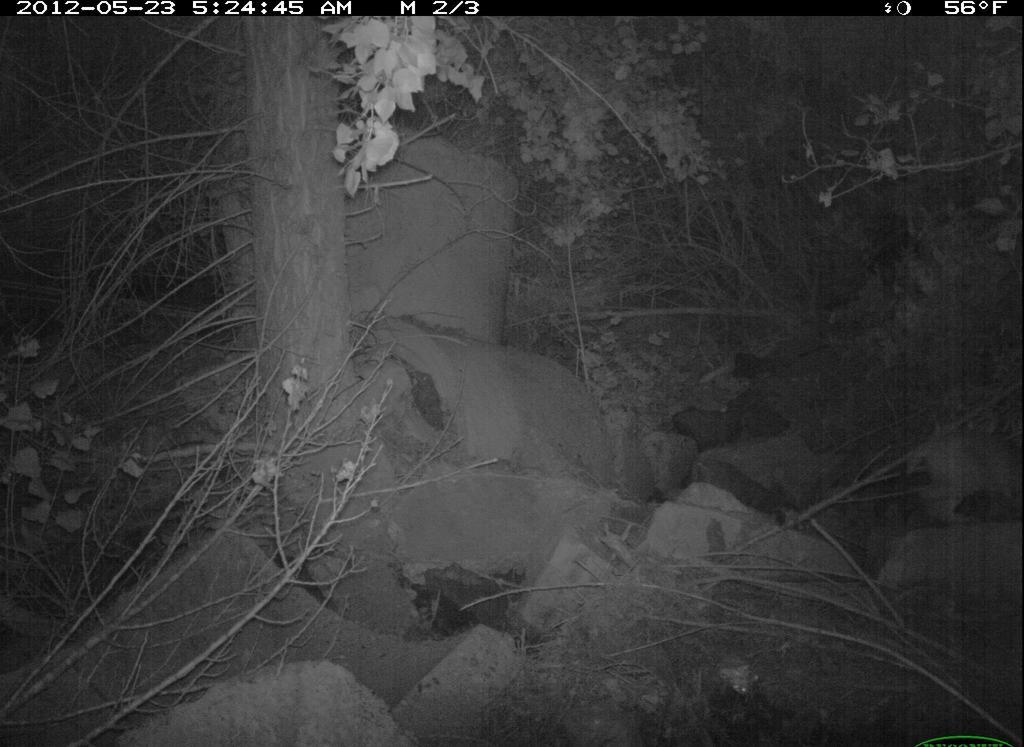bobcat: (898, 422, 1024, 532)
